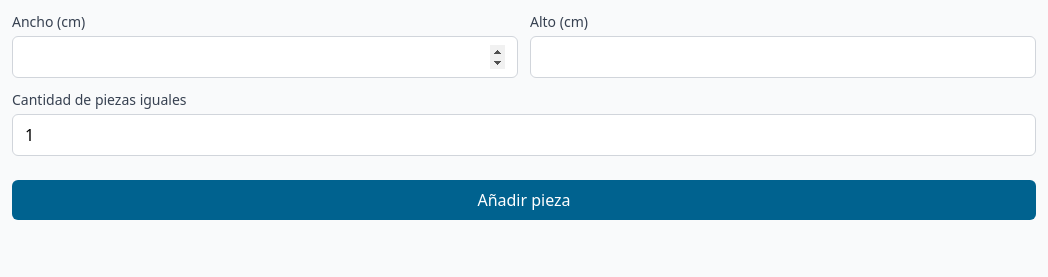
Test: OrderLineForm › M2 › rejects width-input below minimum
This screenshot has width=1048, height=277.
Type "1" into the number field with test id "width-input" at (265, 57), box [12,36,518,78]
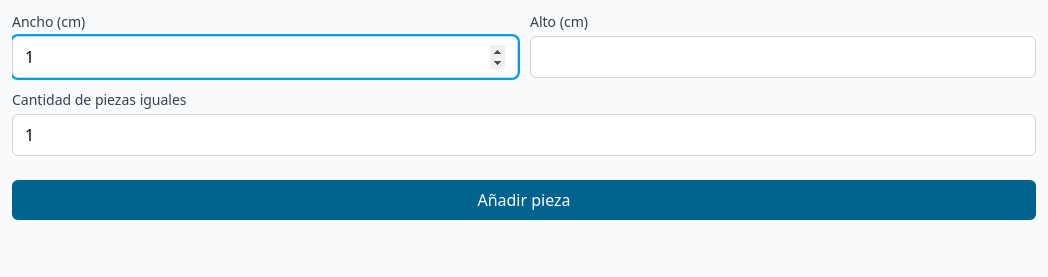
Type "100" into the number field with test id "height-input" at (783, 57), box [530,36,1036,78]
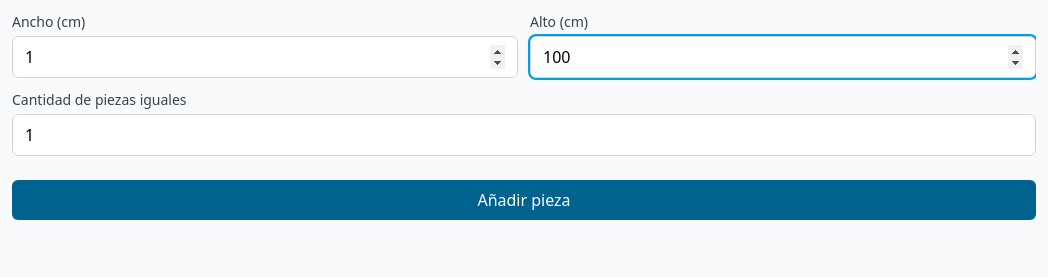
Click the button with test id "add-piece-btn" at (524, 200), box [12,180,1036,220]
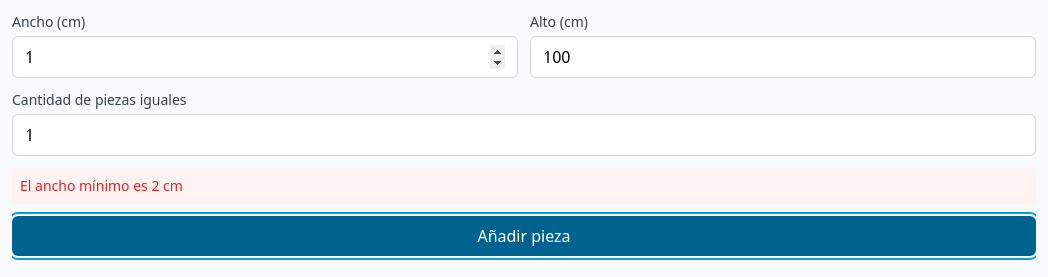
Result: the text "El ancho mínimo es 2 cm" is shown at [12,168,1036,204]
